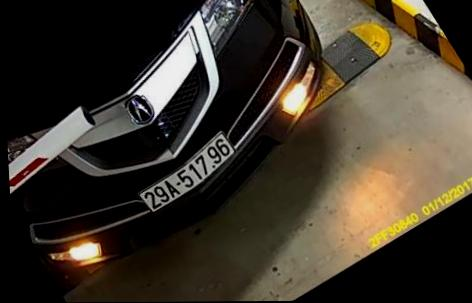License_Plate: (135, 131, 244, 215)
